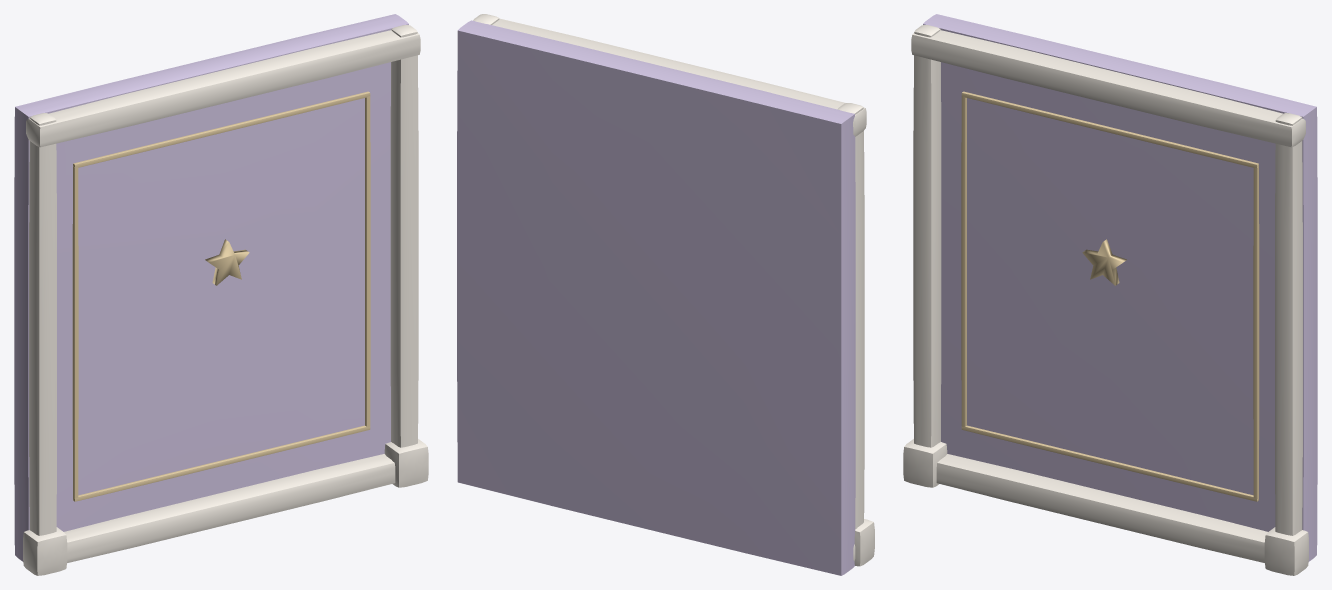
The model's file is lavender_wall.glb.
3 views of the same model, side by side, from view 1: azimuth 30°, elevation 25°; view 2: azimuth 150°, elevation 25°; view 3: azimuth 330°, elevation 25° (orthographic).
Parts seen in each view (by area): view 1: wall core, cornice (×2), pilaster (×2), inset frame (×4), column foot (×2), wall star; view 2: wall core, pilaster, cornice, column foot; view 3: wall core, cornice (×2), pilaster (×2), inset frame (×4), column foot (×2), wall star.
Boxes of the visible parts, left/top/right/bottom form: wall core: left=14, top=14, right=408, bottom=561; cornice (×2): left=26, top=30, right=420, bottom=562; pilaster (×2): left=29, top=25, right=418, bottom=535; inset frame (×4): left=72, top=91, right=370, bottom=501; column foot (×2): left=23, top=439, right=428, bottom=575; wall star: left=205, top=239, right=249, bottom=285; wall core: left=457, top=20, right=855, bottom=575; pilaster: left=837, top=103, right=864, bottom=528; cornice: left=492, top=18, right=866, bottom=136; column foot: left=854, top=519, right=874, bottom=566; wall core: left=923, top=14, right=1317, bottom=561; cornice (×2): left=911, top=30, right=1305, bottom=562; pilaster (×2): left=913, top=25, right=1302, bottom=535; inset frame (×4): left=961, top=91, right=1259, bottom=501; column foot (×2): left=903, top=439, right=1308, bottom=575; wall star: left=1082, top=239, right=1126, bottom=285.
Size of the model in its own units: 3.29 by 3.6 by 0.425.
